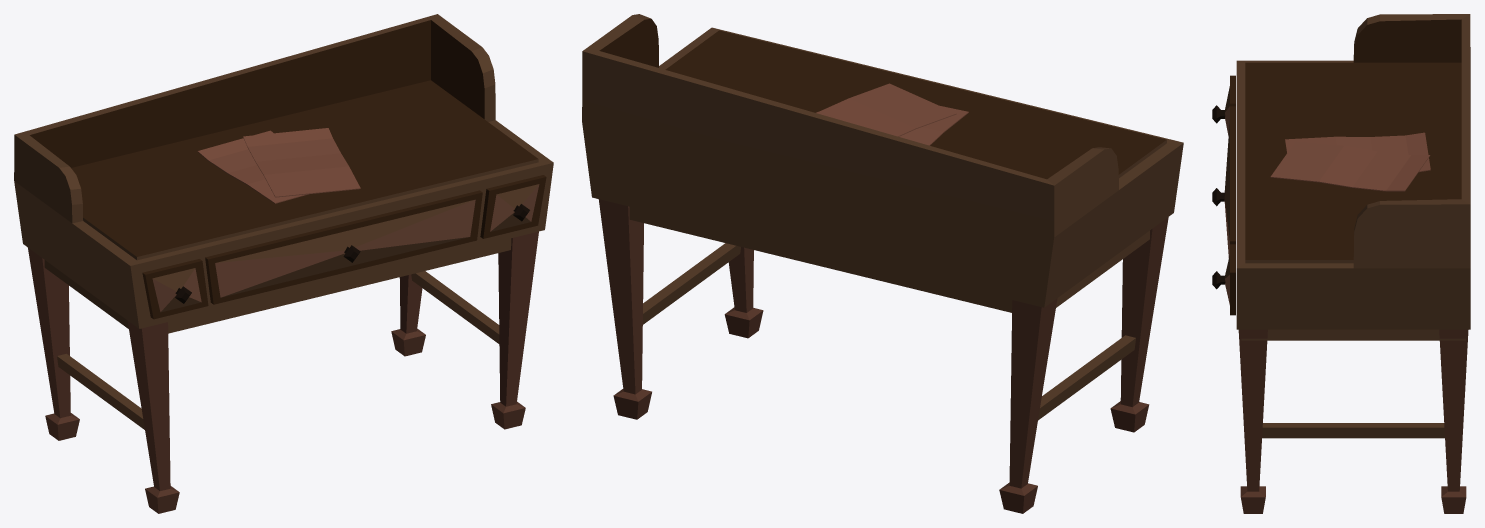
File: Furnit 4 Desk.glb
The picture shows the model from 3 angles, left to right: view 1: azimuth 30°, elevation 25°; view 2: azimuth 150°, elevation 25°; view 3: azimuth 270°, elevation 25°; orthographic projection. The views are drawn at different scales.
Visible parts, largest first — view 1: Furnit 4 Desk; view 2: Furnit 4 Desk; view 3: Furnit 4 Desk.
Part boxes in pixels (x1,y1,x2,y2): Furnit 4 Desk: [14, 14, 553, 513]; Furnit 4 Desk: [582, 14, 1183, 513]; Furnit 4 Desk: [1212, 14, 1470, 513].
Size of what is drawn, in the model's own units: 1.7 by 1.24 by 0.8953.
1 material, 1 textured.
